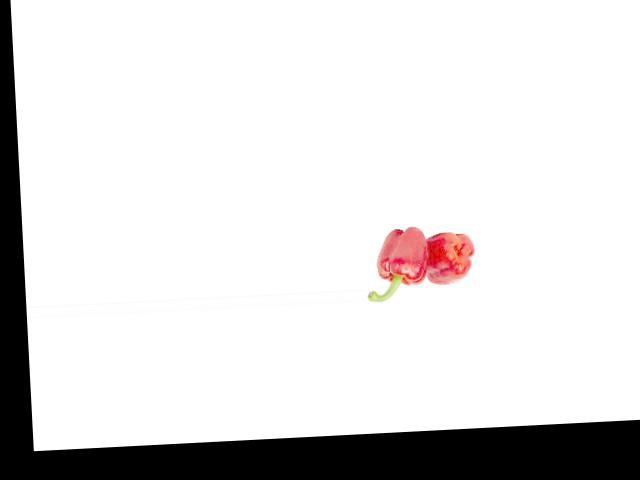bell_pepper: (424, 228, 476, 288)
